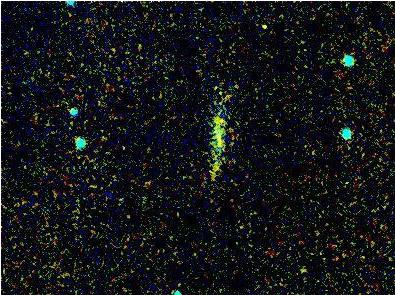star: (249, 13, 279, 43)
